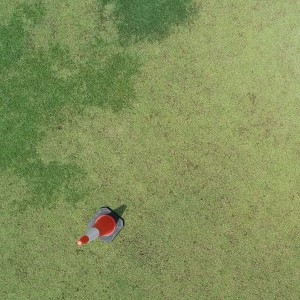traffic cone: (77, 207, 124, 246)
